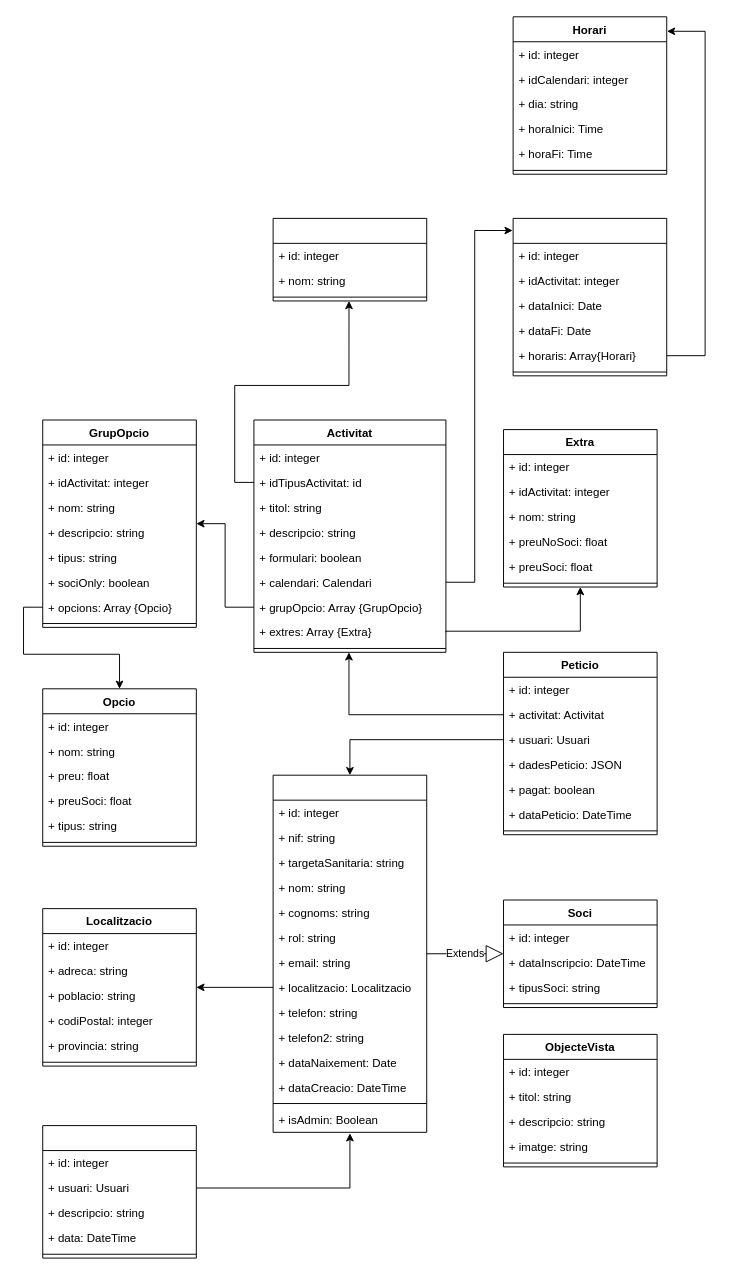
Image size: 730x1275. Some labels were removed from this diagram. The shapes that lost their labels are listed below. From the top down, each one's box as (x1, y1, x2, y2) in pixels, then its label:
(272, 217, 427, 301): TipusActivitat
(512, 217, 667, 376): Calendari
(272, 774, 427, 1132): Usuari
(42, 1125, 196, 1258): Log
